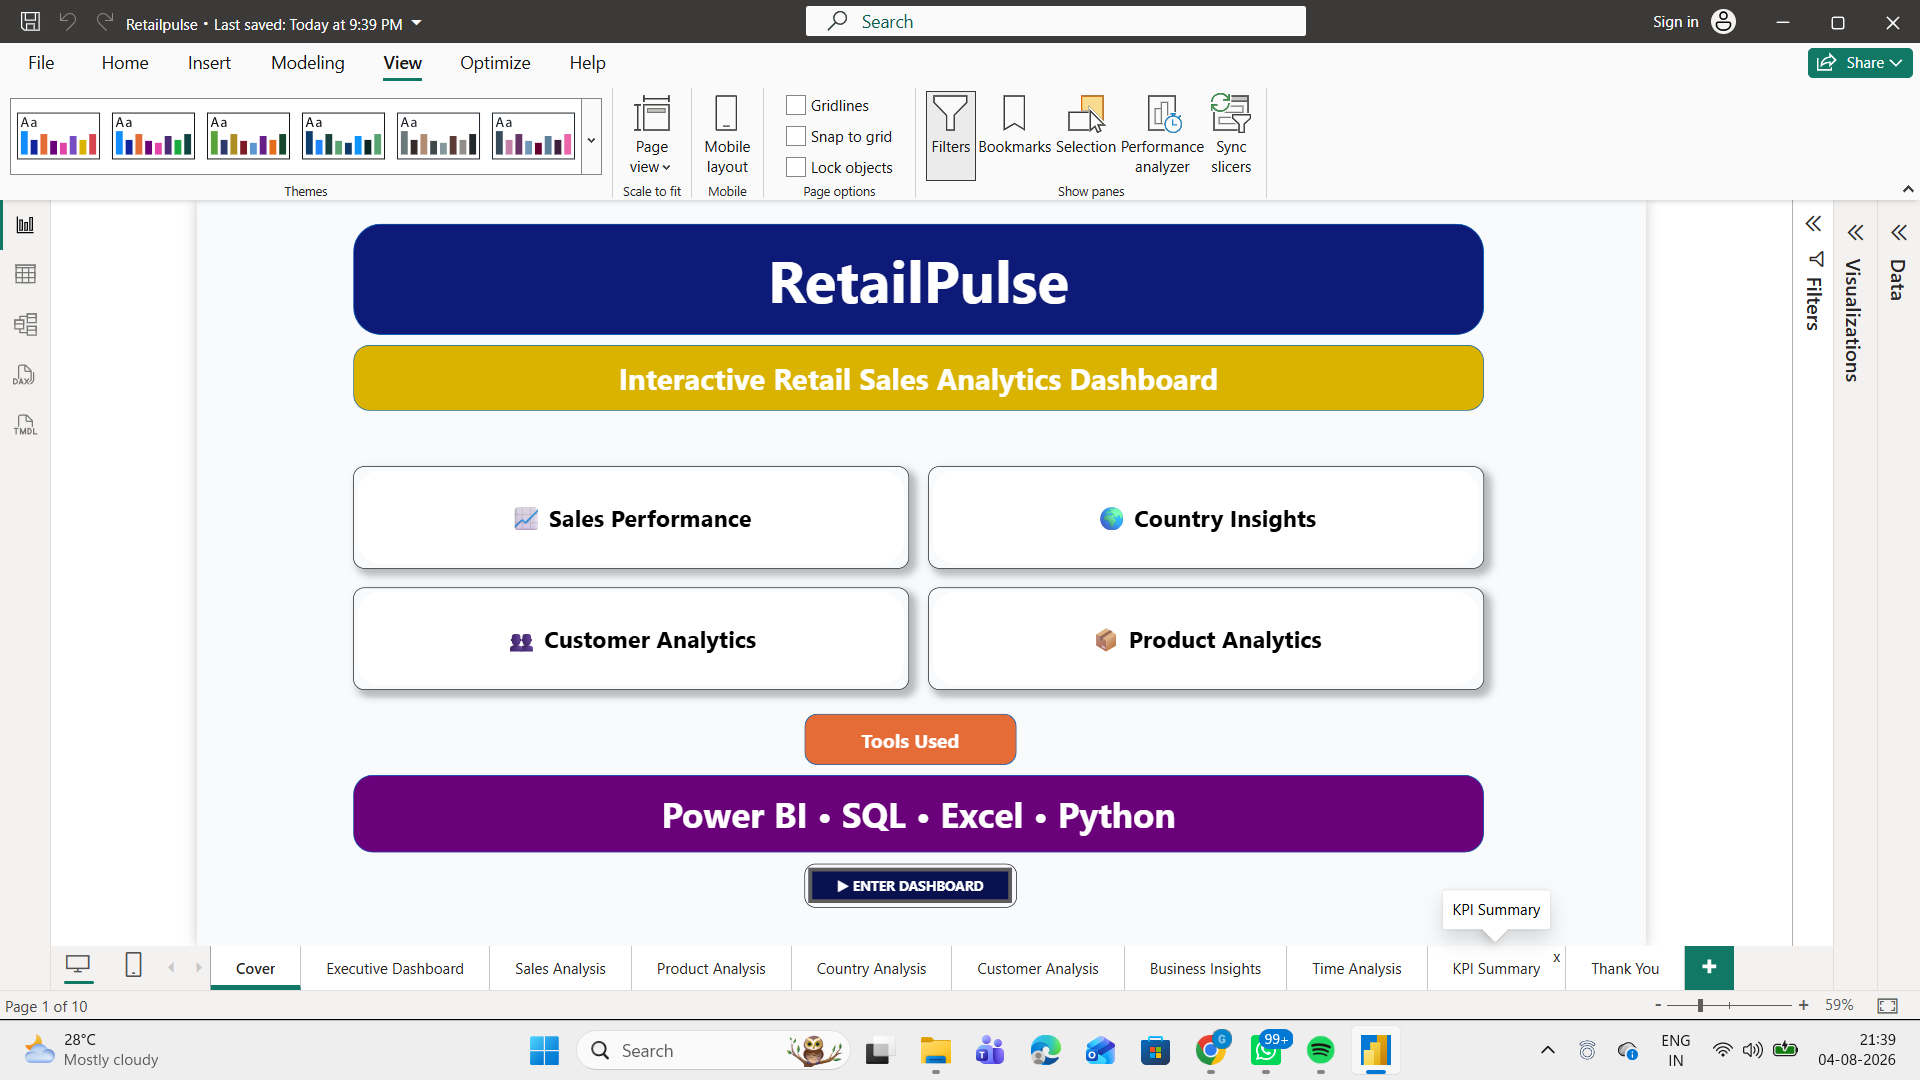

What the dashboard file says about the page in this screenshot:
{"tool":"powerbi","page":{"name":"Cover","canvas":[1980,1020],"ordinal":0},"visuals":[{"type":"shape","box":[214,198,1546,90],"z":0},{"type":"shape","box":[214,32,1546,152],"z":1000},{"type":"shape","box":[1000,364,760,140],"z":2000},{"type":"shape","box":[214,364,760,140],"z":3000},{"type":"shape","box":[214,530,760,140],"z":4000},{"type":"shape","box":[1000,530,760,140],"z":5000},{"type":"shape","box":[214,786,1546,106],"z":6000},{"type":"actionButton","box":[830,908,290,60],"z":7000},{"type":"shape","box":[830,702,290,70],"z":8000}]}

Visuals, with their boxes on the page's 1980x1020 design canvas (x1, y1, x2, y2). These are canvas units, not pixel positions in the 1920x1080 screenshot, which may show the page scaled, cropped or inside an application window:
shape: box=[214, 198, 1760, 288]
shape: box=[214, 32, 1760, 184]
shape: box=[1000, 364, 1760, 504]
shape: box=[214, 364, 974, 504]
shape: box=[214, 530, 974, 670]
shape: box=[1000, 530, 1760, 670]
shape: box=[214, 786, 1760, 892]
actionButton: box=[830, 908, 1120, 968]
shape: box=[830, 702, 1120, 772]
